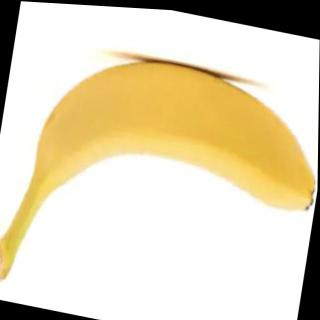banana: (31, 35, 319, 230)
